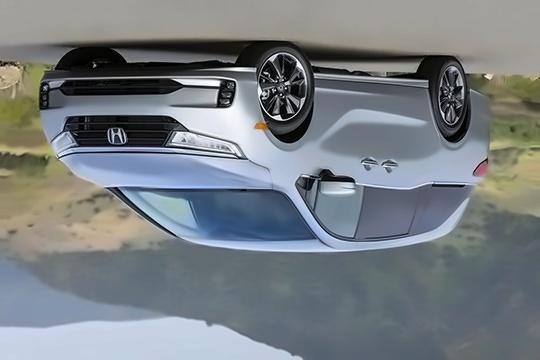Car hood: (51, 150, 276, 193)
Driver-s door - -F-R-: (314, 81, 375, 253)
Fender - -F-R-: (244, 71, 315, 198)
Fender - -R-R-: (425, 105, 481, 185)
Front bumper: (36, 63, 264, 129)
Headlight - -L-: (41, 128, 81, 161)
Headlight - -R-: (159, 123, 249, 165)
Passenger-s door - -R-R-: (376, 80, 429, 250)
Rear bumper: (463, 85, 501, 139)
Rear light - -R-: (469, 154, 494, 183)
Side bumper - -R-: (307, 68, 433, 93)
Side mirror - -R-: (312, 173, 359, 199)
